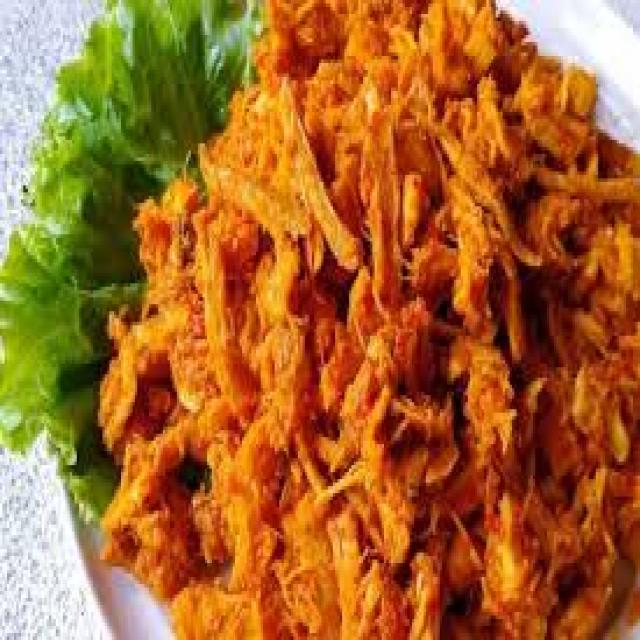ayam_suwir: (99, 0, 637, 637)
